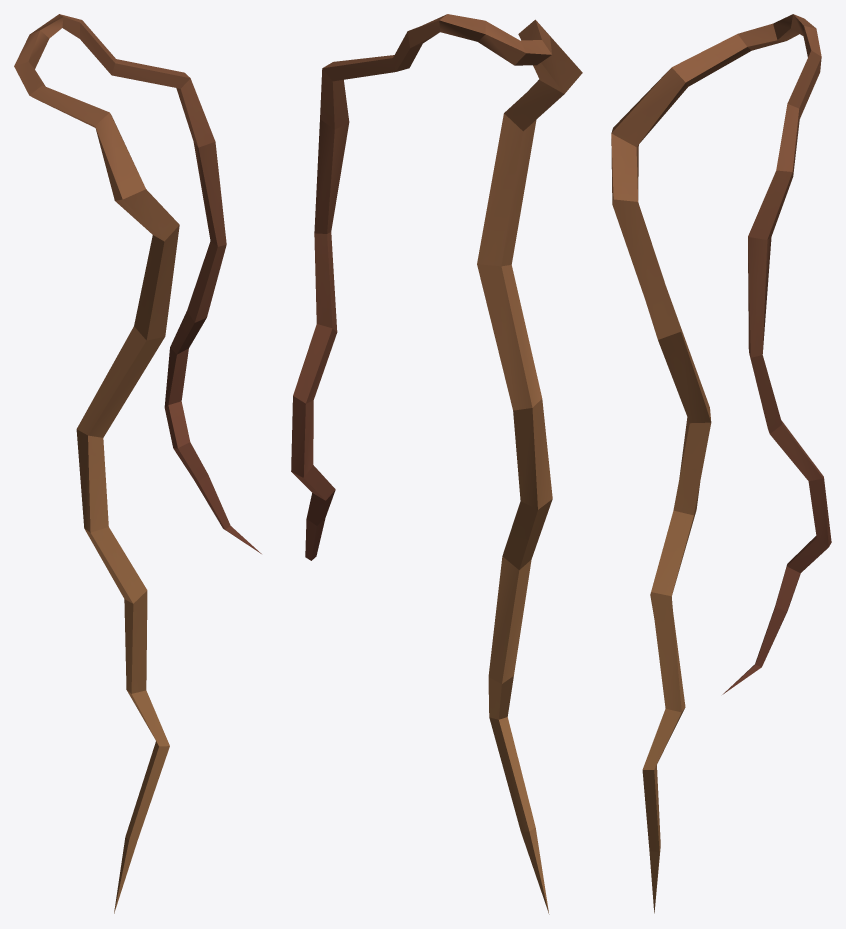
The model's file is ZLP_Plant_Vine_A_8.FBX.
The picture shows the model from 3 angles, left to right: view 1: azimuth 30°, elevation 25°; view 2: azimuth 150°, elevation 25°; view 3: azimuth 270°, elevation 25°; orthographic projection. The views are drawn at different scales.
Parts seen in each view (by area): view 1: ZLP_Plant_Vine_A_8; view 2: ZLP_Plant_Vine_A_8; view 3: ZLP_Plant_Vine_A_8.
Boxes of the visible parts, x1,y1,x2,y2 form: ZLP_Plant_Vine_A_8: [14, 14, 261, 913]; ZLP_Plant_Vine_A_8: [291, 14, 582, 914]; ZLP_Plant_Vine_A_8: [611, 14, 831, 913].
Bounding box in the file's own units: 107 × 385 × 85.39.
